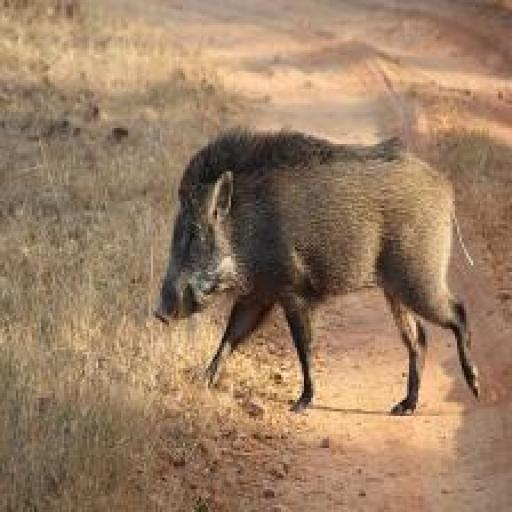Pig: (153, 121, 481, 414)
